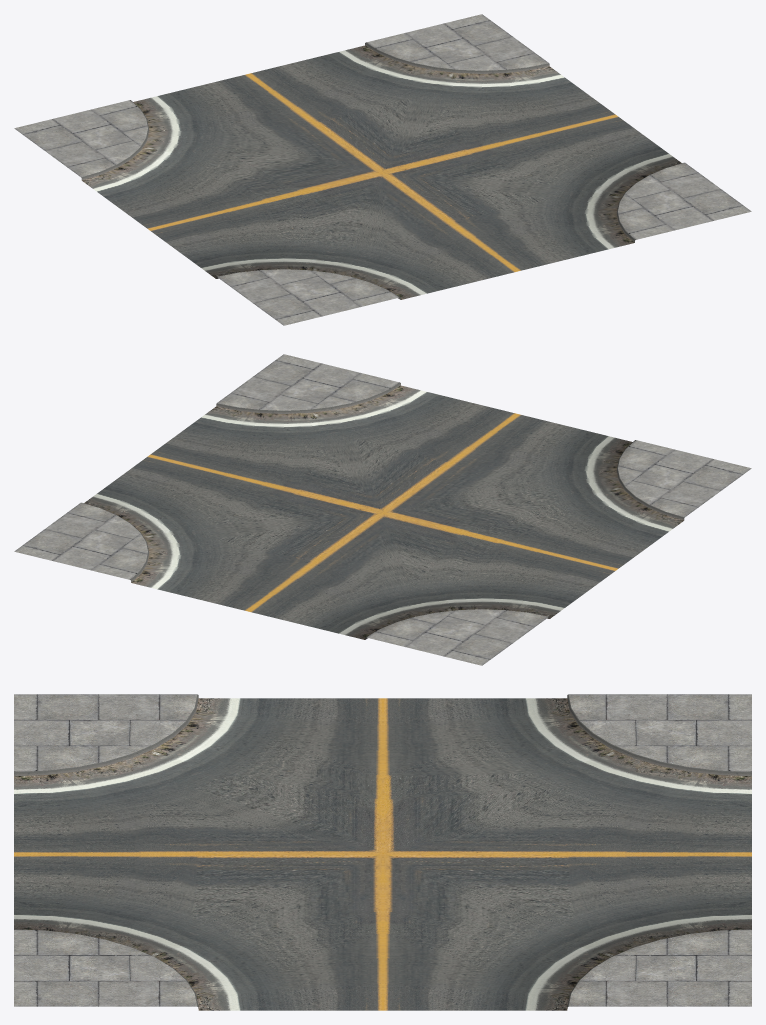
Rendered from Crossing.FBX.
3 views of the same model, one above another, from view 1: azimuth 30°, elevation 25°; view 2: azimuth 150°, elevation 25°; view 3: azimuth 270°, elevation 25° (orthographic). The views are drawn at different scales.
Visible parts, largest first — view 1: Plane041; view 2: Plane041; view 3: Plane041.
Boxes of the visible parts, x1,y1,x2,y2 form: Plane041: [14, 14, 751, 325]; Plane041: [14, 354, 751, 665]; Plane041: [14, 694, 751, 1010].
Bounding box in the file's own units: 1230 × 6.93 × 1228.
